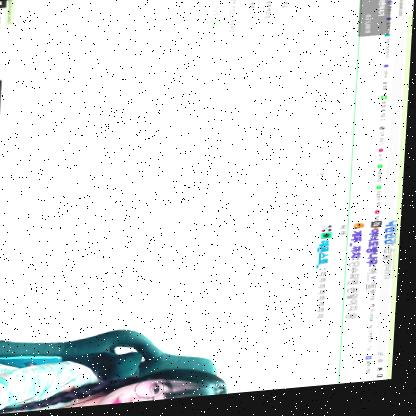streamer: (0, 335, 239, 416)
